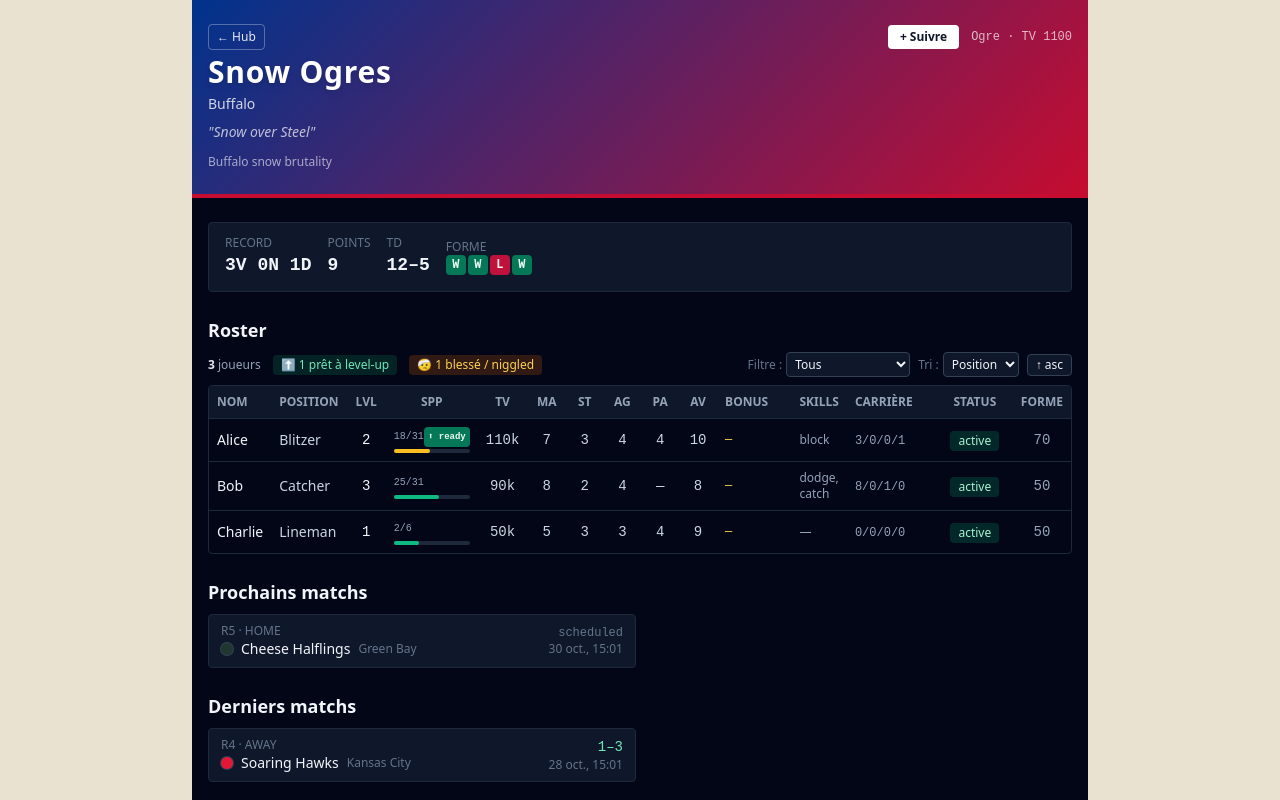
Test: ProLeagueTeamPage — sprint 1.C.2 › Lot H — filters / sort / ready badge › filtre 'Blessés' ne montre que les nigglés / non-actifs
Step 1. Select "Blessés / nigglés" in the dropdown with test id "roster-filter" → x=848, y=364, box [786,352,910,377]
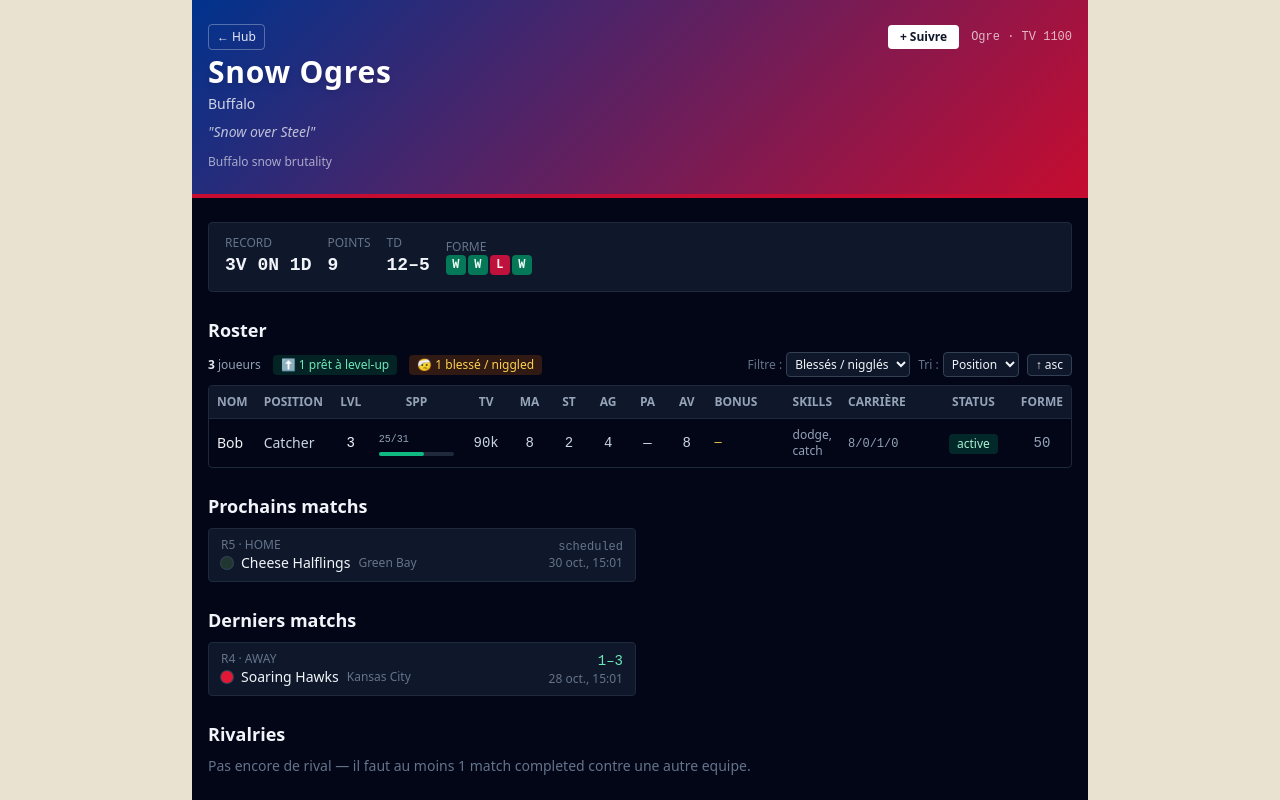
Expected: the link "Bob" is shown, [217,433,243,452]
Result: the link "Alice" is gone
